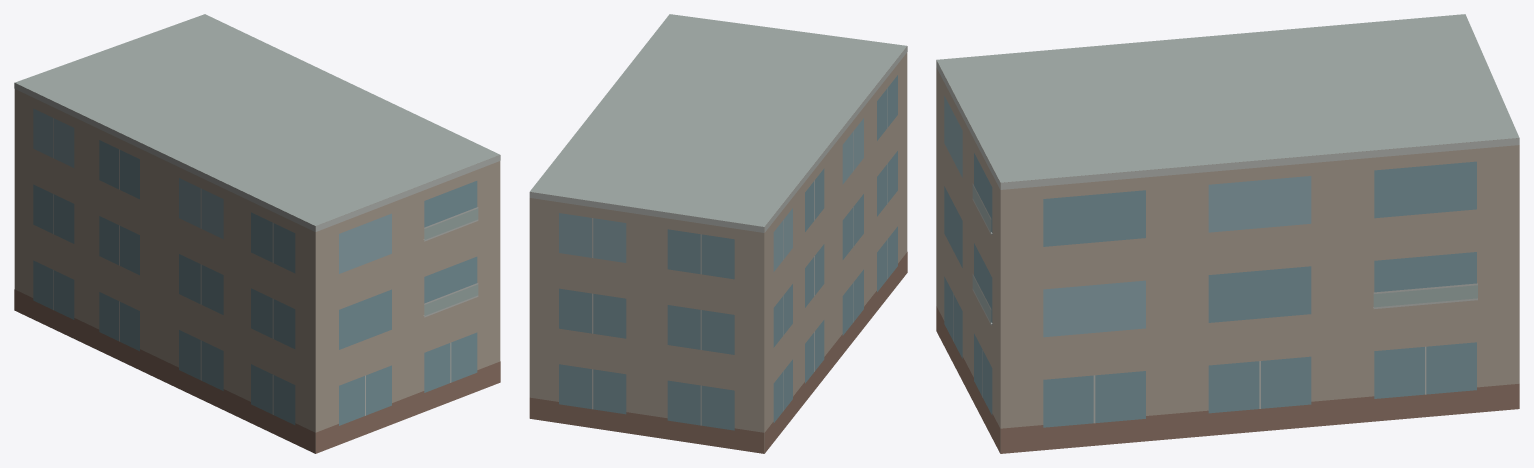
The model's file is survey-upis-32946481.glb.
The picture shows the model from 3 angles, left to right: view 1: azimuth 30°, elevation 25°; view 2: azimuth 150°, elevation 25°; view 3: azimuth 270°, elevation 25°; orthographic projection. The views are drawn at different scales.
Parts seen in each view (by area): view 1: survey-upis-32946481.tmp; view 2: survey-upis-32946481.tmp; view 3: survey-upis-32946481.tmp.
Part boxes in pixels (x1=…): survey-upis-32946481.tmp: x1=14, y1=14, x2=500, y2=453; survey-upis-32946481.tmp: x1=529, y1=14, x2=907, y2=453; survey-upis-32946481.tmp: x1=936, y1=14, x2=1519, y2=453.
Bounding box in the file's own units: 12.22 × 9.15 × 17.85.
